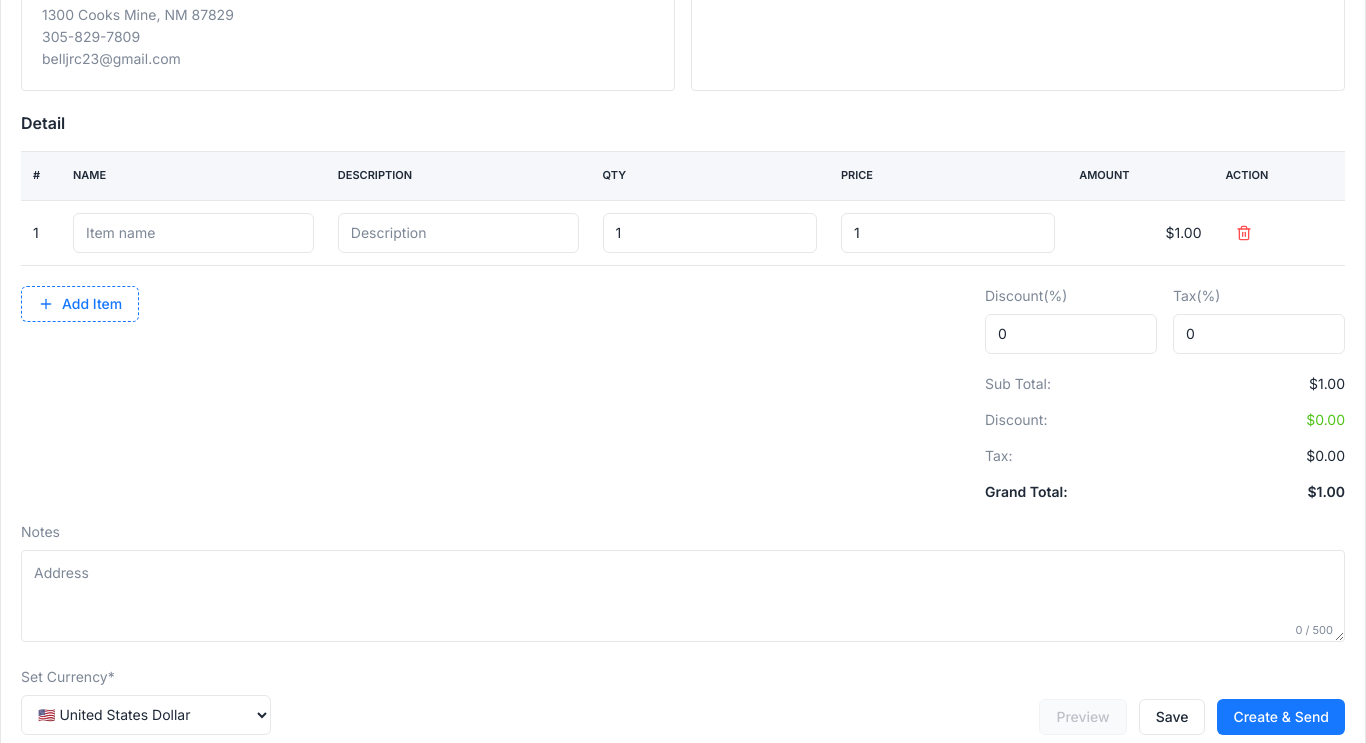
Test: Create Invoice › validates the required fields before saving
The image size is (1366, 743).
(page scrolled)
Click the button "Save" at point(1172, 717), box [1139,699,1206,735]
(page scrolled)
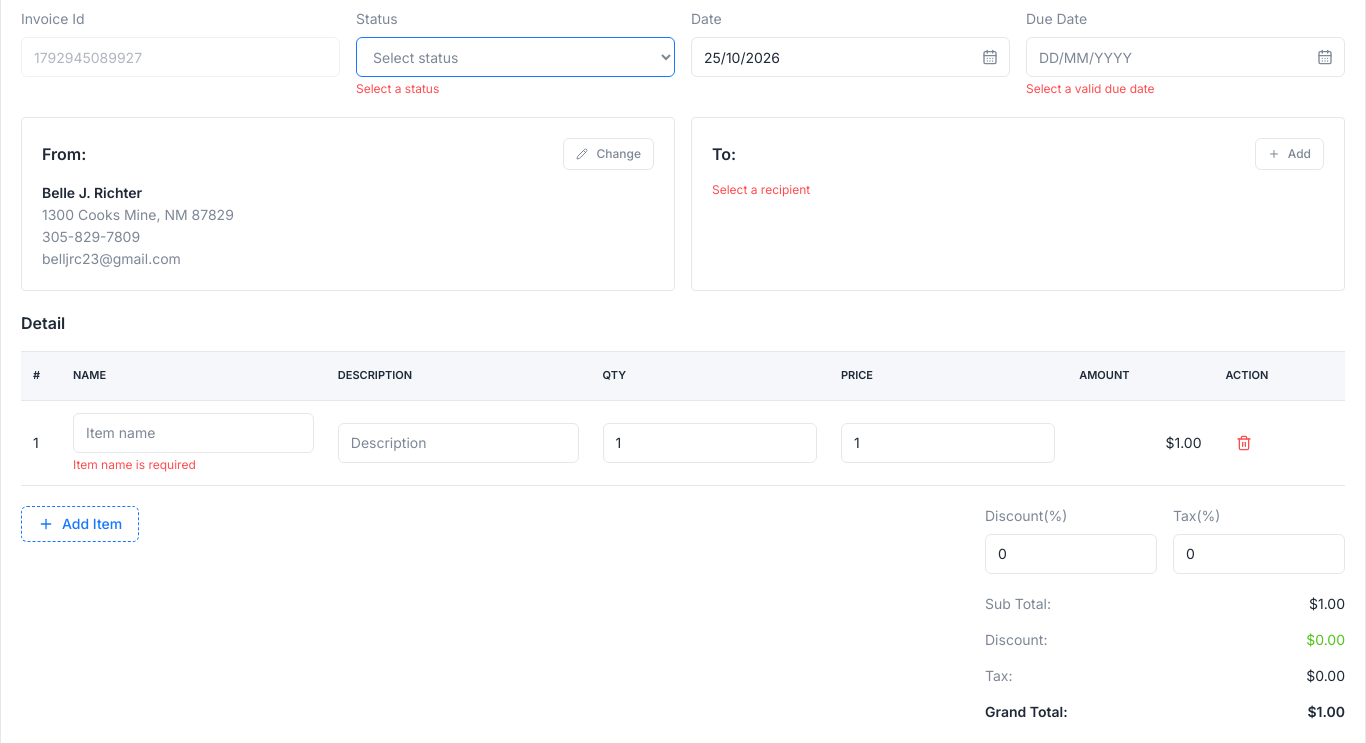
expect the text "Select a recipient" is shown: met, box [712,182,810,197]
expect the text "Select a valid due date" is shown: met, box [1026,81,1154,96]
